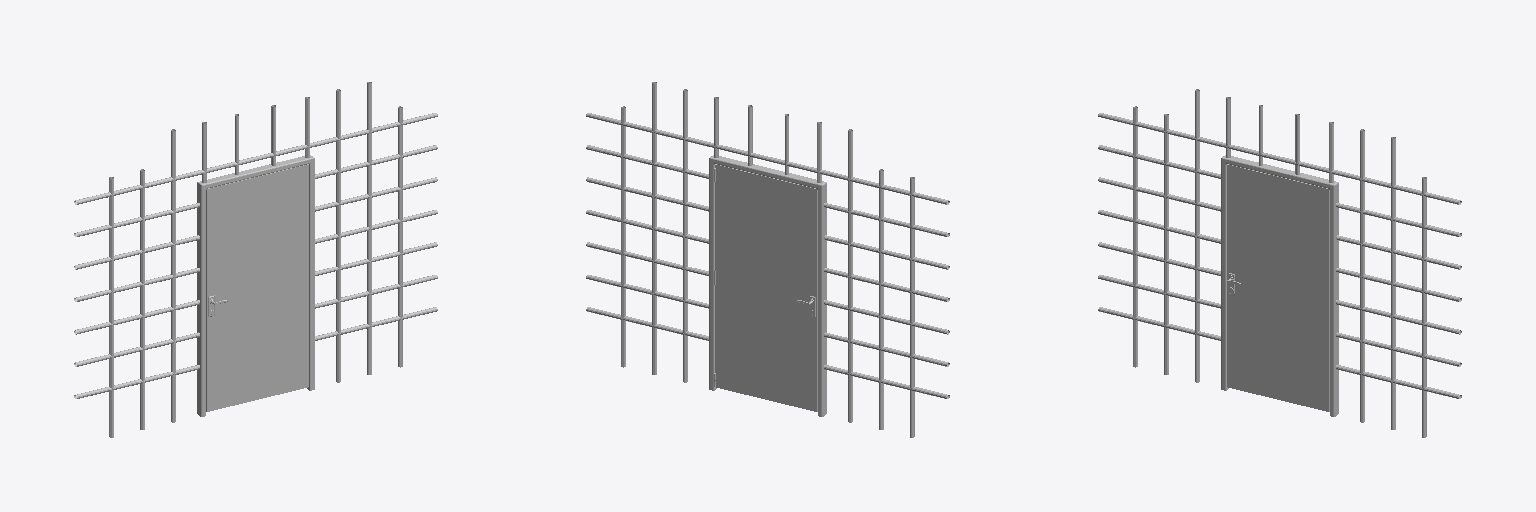
The model's file is bars_metal_4.obj.
3 views of the same model, side by side, from view 1: azimuth 30°, elevation 25°; view 2: azimuth 150°, elevation 25°; view 3: azimuth 330°, elevation 25° (orthographic).
Parts seen in each view (by area): view 1: door_6, bars_metal_4; view 2: door_6, bars_metal_4; view 3: door_6, bars_metal_4.
Part boxes in pixels (x1,y1,x2,y2): door_6: (206, 164, 308, 411); bars_metal_4: (74, 82, 437, 437); door_6: (714, 164, 817, 411); bars_metal_4: (586, 82, 949, 437); door_6: (1227, 164, 1329, 411); bars_metal_4: (1098, 89, 1461, 437).
Size of the model in its own units: 3.5 by 2.7 by 0.194.